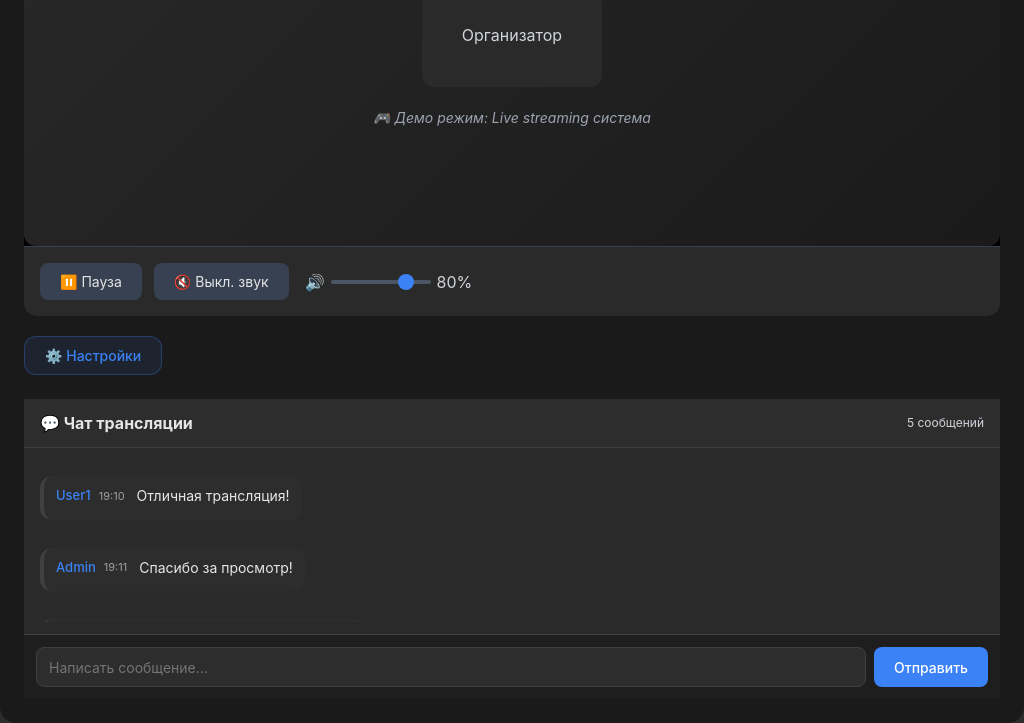
Test case: EnhancedLiveBroadcastView › sends message on Enter key press
(page scrolled)
Type "Enter message" into the field with placeholder "Написать сообщение..." at [451, 667], box 36,647 -> 866,687
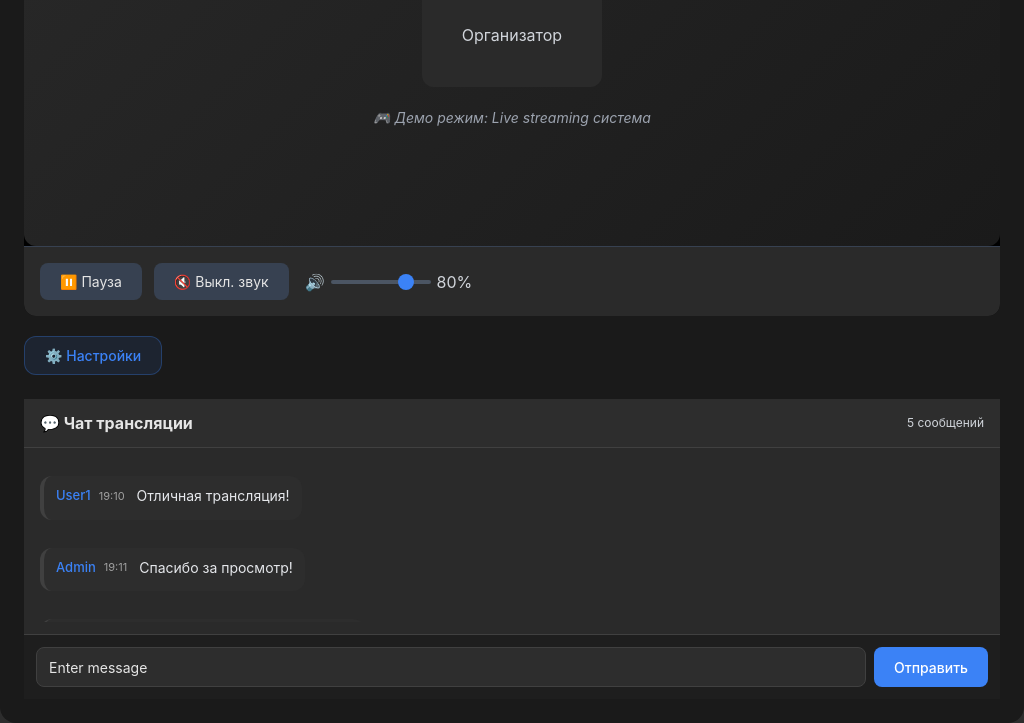
Press Enter in the field with placeholder "Написать сообщение...", box 36,647 -> 866,687
(page scrolled)
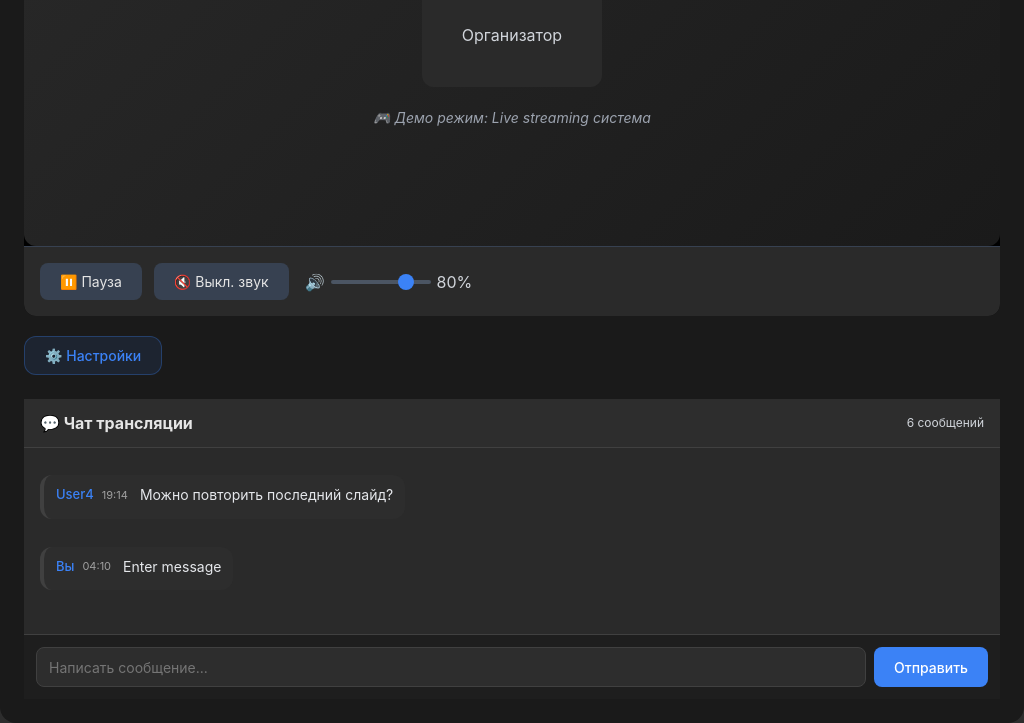
Expected: the text "Enter message" is shown, 123,556 -> 221,580
